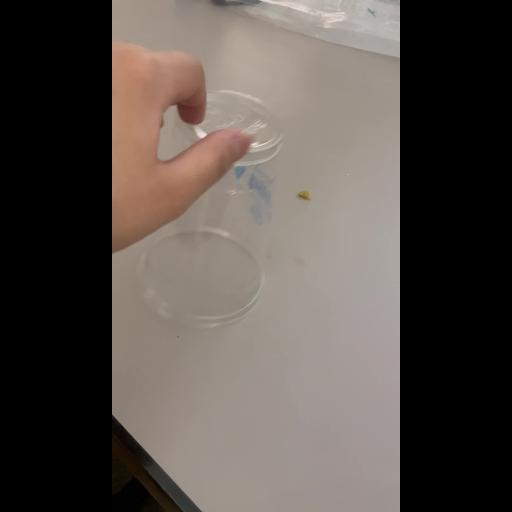lp_plastic_cup: (138, 86, 286, 334)
